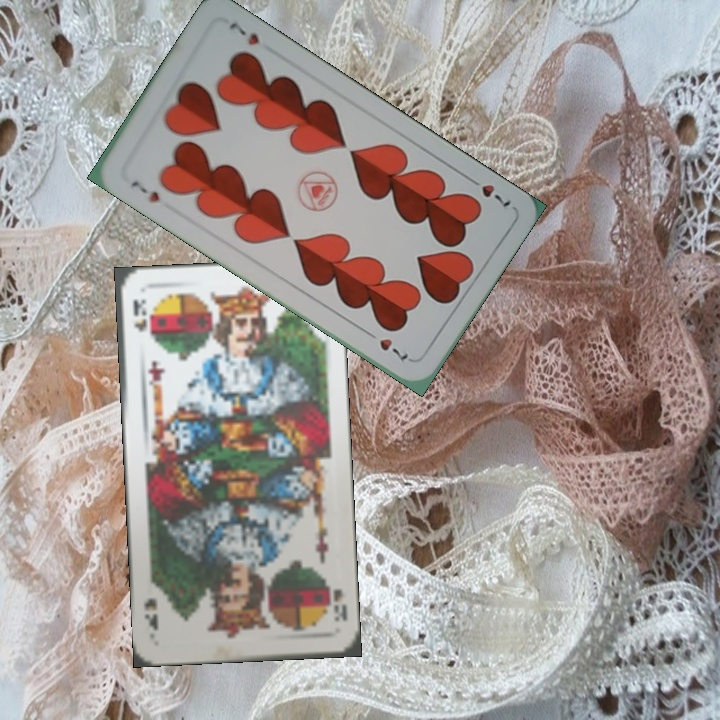H7: (462, 172, 514, 210), (127, 176, 163, 205)
SK: (322, 572, 350, 625), (129, 295, 150, 334)
